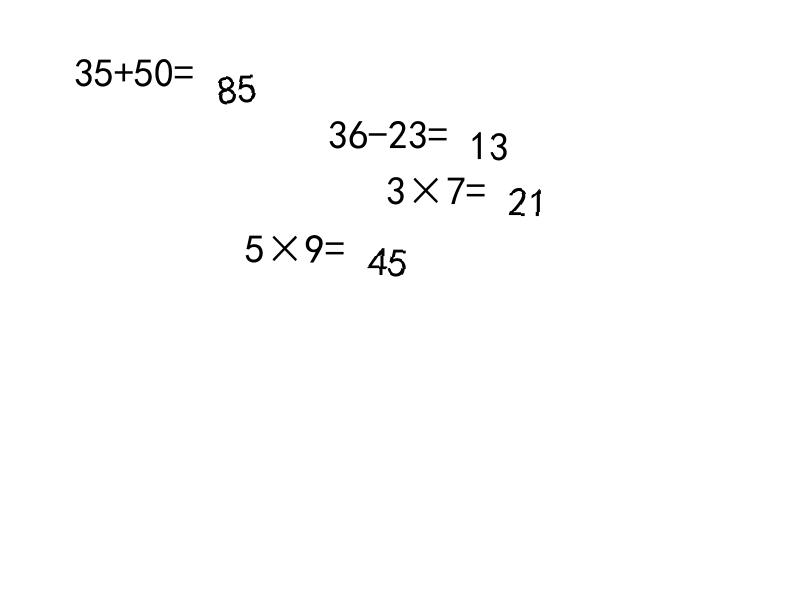+: (114, 52, 134, 82)
-: (368, 114, 388, 143)
0: (154, 52, 174, 82)
1: (458, 114, 478, 143), (516, 170, 536, 199)
2: (388, 114, 408, 143), (496, 170, 516, 199)
3: (74, 52, 94, 82), (328, 114, 348, 143), (408, 114, 428, 143), (478, 114, 498, 143), (386, 170, 406, 199)
4: (355, 228, 375, 256)
5: (94, 52, 114, 82), (134, 52, 154, 82), (224, 52, 244, 82), (245, 228, 265, 256), (375, 228, 395, 256)
6: (348, 114, 368, 143)
7: (446, 170, 466, 199)
8: (204, 52, 224, 82)
9: (305, 228, 325, 256)
=: (174, 52, 194, 82), (428, 114, 448, 143), (466, 170, 486, 199), (325, 228, 345, 256)
×: (406, 170, 446, 199), (265, 228, 305, 256)
